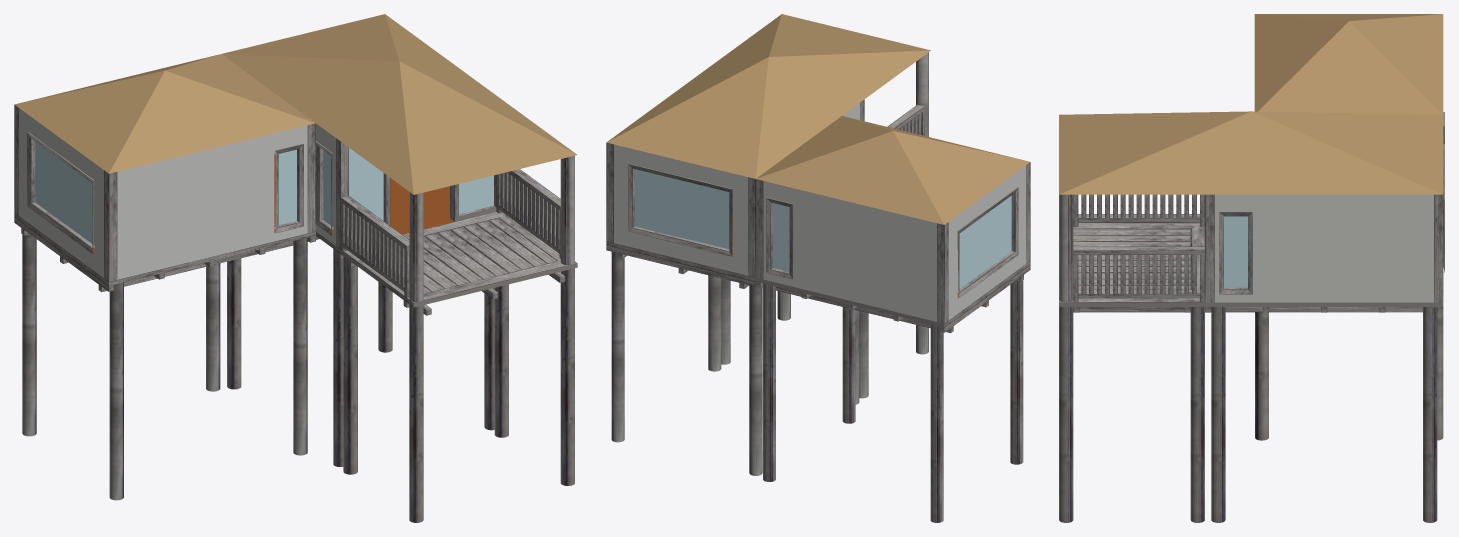
Rendered from pier-hut.zfix-v5.lod0.glb.
3 views of the same model, side by side, from view 1: azimuth 30°, elevation 25°; view 2: azimuth 150°, elevation 25°; view 3: azimuth 270°, elevation 25° (orthographic). The views are drawn at different scales.
Visible parts, largest first — view 1: Material3, Material2; view 2: Material3, Material2; view 3: Material3, Material2.
Boxes of the visible parts, bbox=[...] form: Material3: bbox=[14, 14, 577, 307]; Material2: bbox=[14, 105, 577, 522]; Material3: bbox=[606, 14, 1029, 327]; Material2: bbox=[606, 52, 1030, 522]; Material3: bbox=[1059, 14, 1444, 306]; Material2: bbox=[1059, 126, 1444, 522].
Bounding box in the file's own units: 12 × 11.44 × 10.76.
3 materials, 1 textured.
